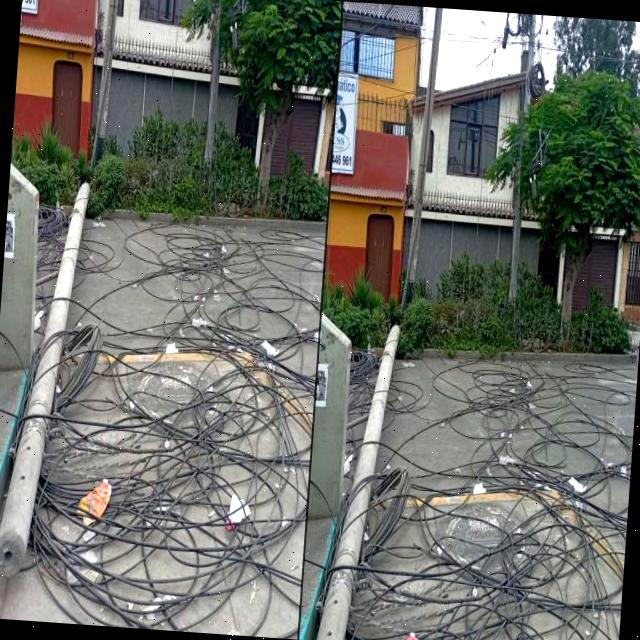Broken Pole: (0, 182, 89, 575), (316, 325, 400, 640)
